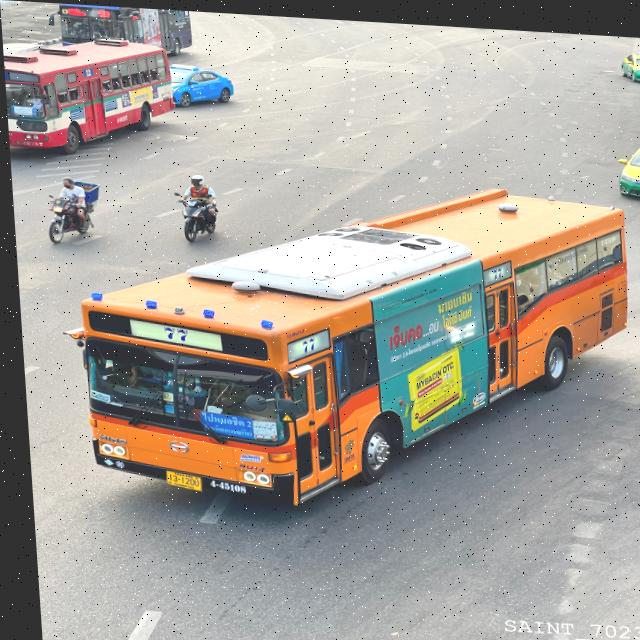BMTA-bus: (64, 183, 627, 504)
Bus Line Number: (144, 314, 204, 346), (294, 333, 313, 350)
Bus Side Number: (198, 475, 242, 493)
Destination Sign: (195, 406, 252, 437)
